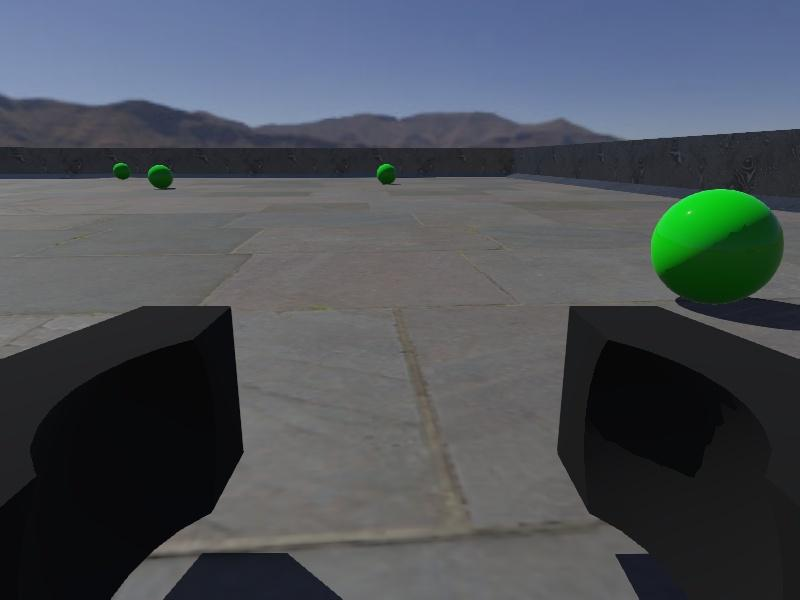green ball: (650, 188, 785, 305), (147, 164, 174, 189), (375, 163, 398, 186), (112, 163, 132, 181)
